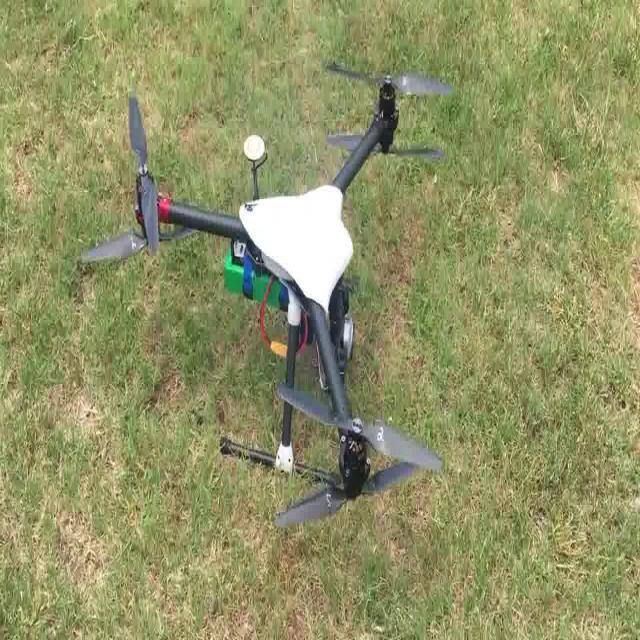drones: (73, 52, 464, 535)
